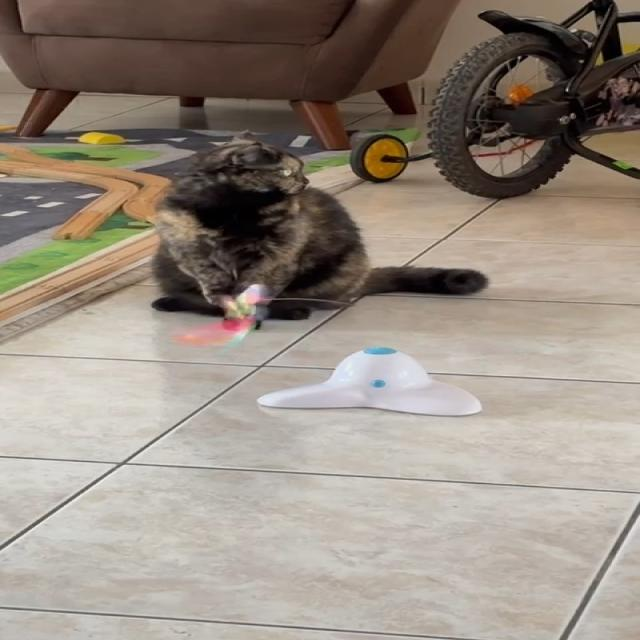authorized: (148, 130, 488, 321)
